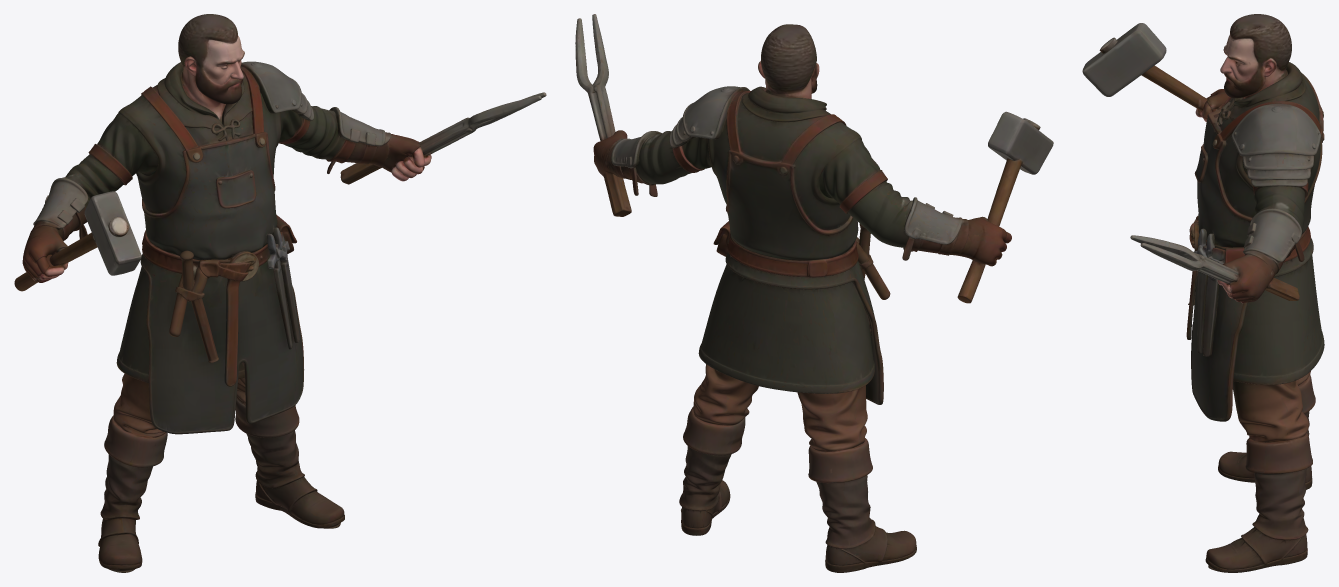
File: agent-22.glb
3 views of the same model, side by side, from view 1: azimuth 30°, elevation 25°; view 2: azimuth 150°, elevation 25°; view 3: azimuth 270°, elevation 25° (orthographic). The views are drawn at different scales.
Parts seen in each view (by area): view 1: material; view 2: material; view 3: material.
Part boxes in pixels (x1,y1,x2,y2): material: [14, 14, 546, 572]; material: [575, 14, 1053, 572]; material: [1082, 14, 1324, 572].
Size of the model in its own units: 0.9803 by 1.01 by 0.4425.
Materials: 1 (1 with a texture image).
